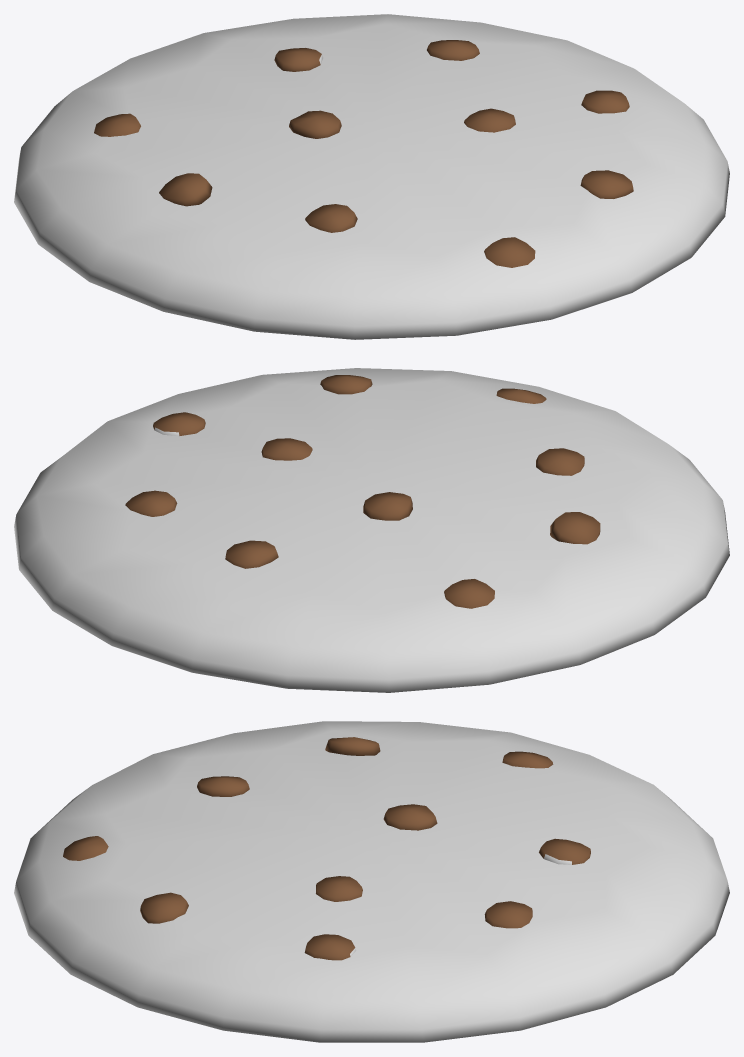
File: ChocolateChipCookie.fbx
The picture shows the model from 3 angles, top to bottom: view 1: azimuth 30°, elevation 25°; view 2: azimuth 150°, elevation 25°; view 3: azimuth 270°, elevation 25°; orthographic projection.
Visible parts, largest first — view 1: ChocolateChipFinal; view 2: ChocolateChipFinal; view 3: ChocolateChipFinal.
Part boxes in pixels (<box>): ChocolateChipFinal: <box>14,14,729,339</box>; ChocolateChipFinal: <box>14,368,729,692</box>; ChocolateChipFinal: <box>14,721,729,1042</box>.
Size of the model in its own units: 4.31 by 4.26 by 0.4855.
